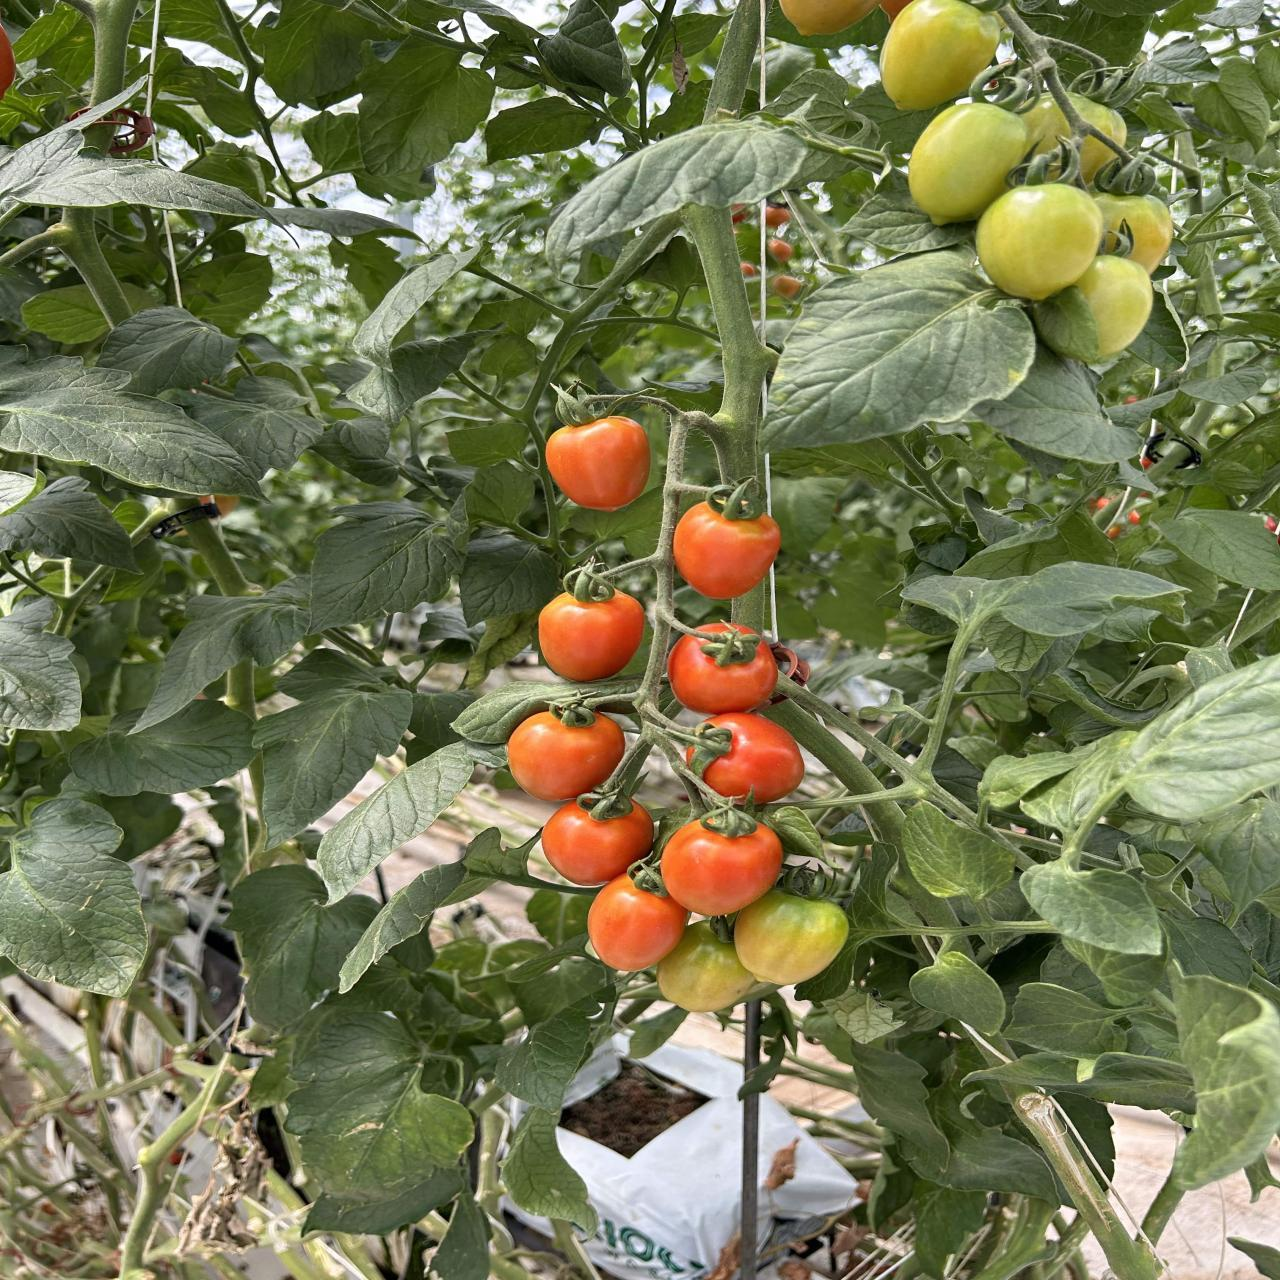Hoja: (761, 251, 1035, 451), (545, 120, 819, 271), (286, 1010, 472, 1232), (0, 358, 259, 493), (253, 648, 413, 844), (318, 741, 503, 901), (0, 797, 147, 996), (141, 577, 311, 728), (229, 865, 380, 1029), (971, 336, 1139, 463), (309, 502, 463, 631), (1020, 858, 1162, 955), (97, 306, 238, 396), (900, 801, 1027, 899), (495, 993, 600, 1110), (1003, 982, 1129, 1057), (458, 532, 558, 622), (910, 951, 1006, 1035)
Pedunculo: (666, 204, 777, 479), (1012, 1089, 1163, 1280), (121, 1061, 225, 1280), (757, 695, 883, 795), (867, 803, 958, 926), (702, 0, 761, 123), (185, 517, 248, 595), (224, 660, 256, 721), (730, 580, 767, 633)
Tomate: (908, 97, 1034, 223), (975, 184, 1103, 300), (879, 0, 1001, 109), (1035, 257, 1152, 362), (660, 821, 782, 917), (735, 888, 849, 986), (506, 709, 626, 801), (673, 502, 781, 599), (587, 873, 689, 971), (545, 416, 649, 511), (539, 799, 654, 885), (538, 591, 646, 681), (702, 712, 804, 805), (656, 922, 758, 1013), (667, 634, 778, 714), (700, 624, 754, 634)
